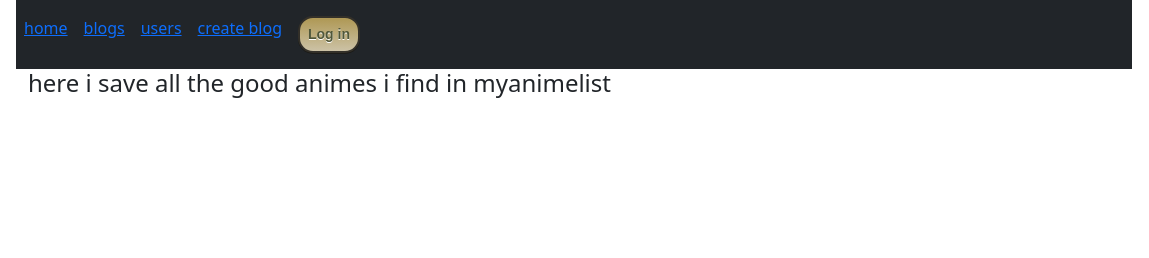
Test: Blog › Login form is shown
This screenshot has width=1149, height=258.
Click the button "Log in": (329, 35) [298,16,360,53]
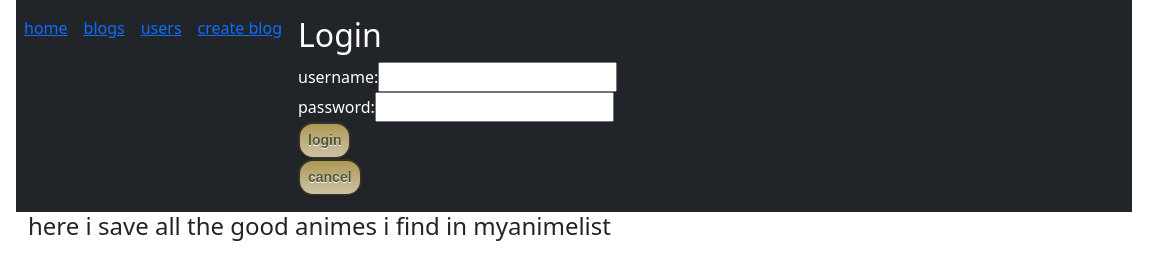
Now the heading "Login" is shown, box [298,13,382,56]
Now the text "username" is shown, box [298,66,378,88]
Now the text "password" is shown, box [298,96,375,118]
